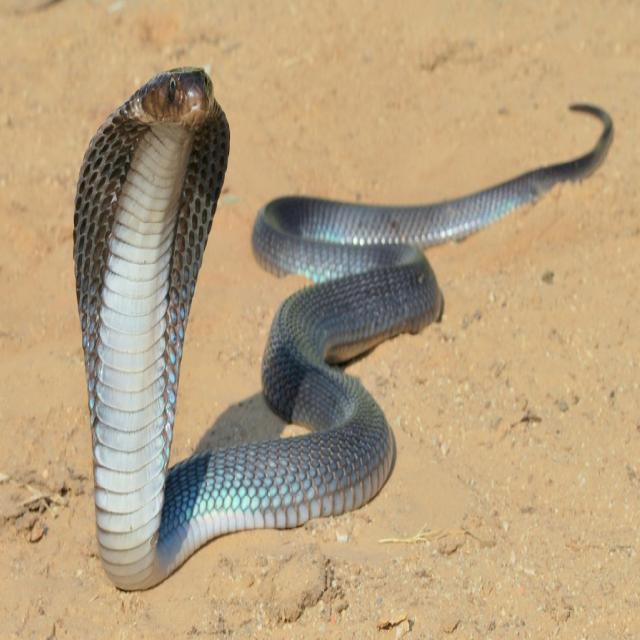Snake: (70, 54, 618, 594)
